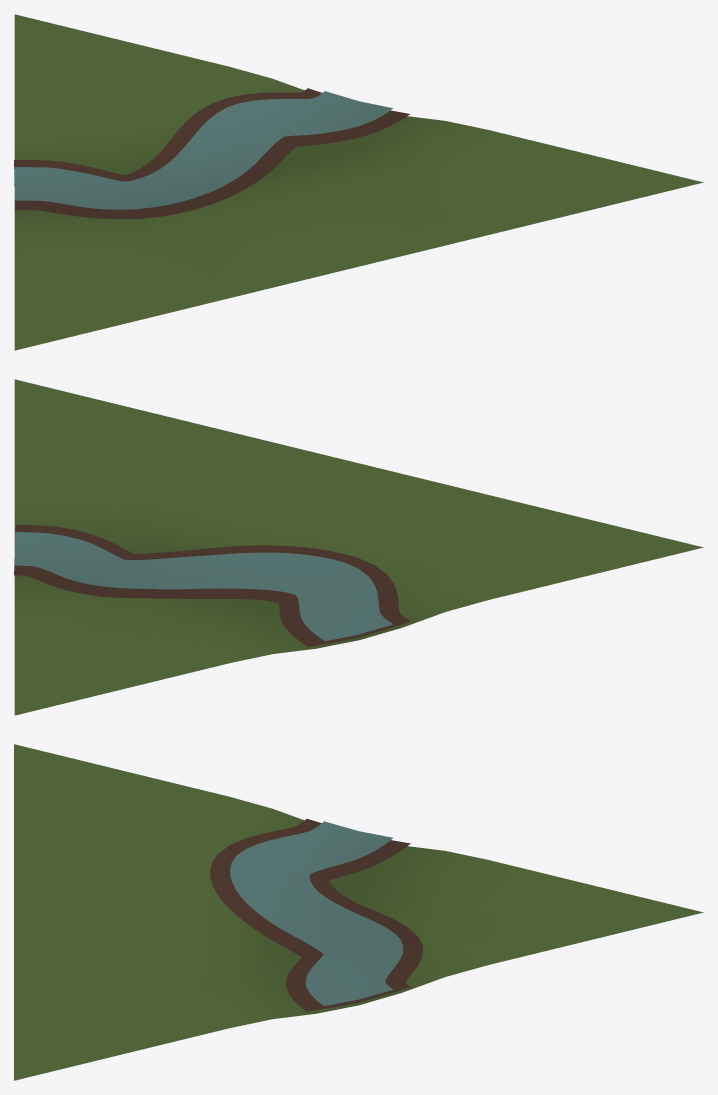
The model's file is MODULE_RIVER_BEND.fbx.
3 renders of one model, top to bottom at view 1: azimuth 30°, elevation 25°; view 2: azimuth 150°, elevation 25°; view 3: azimuth 270°, elevation 25°, orthographic.
Visible parts, largest first — view 1: MODULE_RIVER_BEND__export, MODULE_RIVER_BEND_DECOR__export; view 2: MODULE_RIVER_BEND__export, MODULE_RIVER_BEND_DECOR__export; view 3: MODULE_RIVER_BEND__export, MODULE_RIVER_BEND_DECOR__export.
Part boxes in pixels (left/top/right/bottom): MODULE_RIVER_BEND__export: left=14, top=14, right=703, bottom=350; MODULE_RIVER_BEND_DECOR__export: left=14, top=88, right=409, bottom=218; MODULE_RIVER_BEND__export: left=14, top=379, right=703, bottom=715; MODULE_RIVER_BEND_DECOR__export: left=14, top=525, right=410, bottom=646; MODULE_RIVER_BEND__export: left=14, top=744, right=703, bottom=1080; MODULE_RIVER_BEND_DECOR__export: left=210, top=818, right=423, bottom=1011.
Size of the model in its own units: 100 by 1.63 by 86.6.
